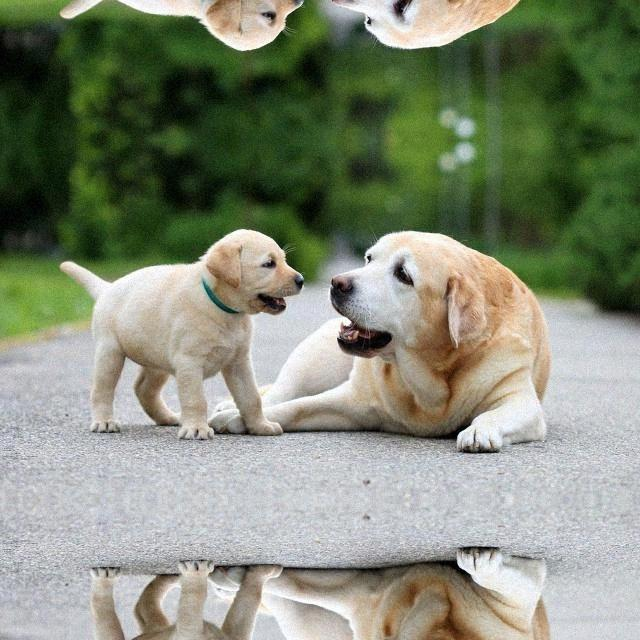dog: (49, 198, 310, 440), (320, 209, 498, 381), (50, 0, 311, 82), (50, 559, 311, 640), (321, 0, 498, 71), (321, 619, 498, 640)
